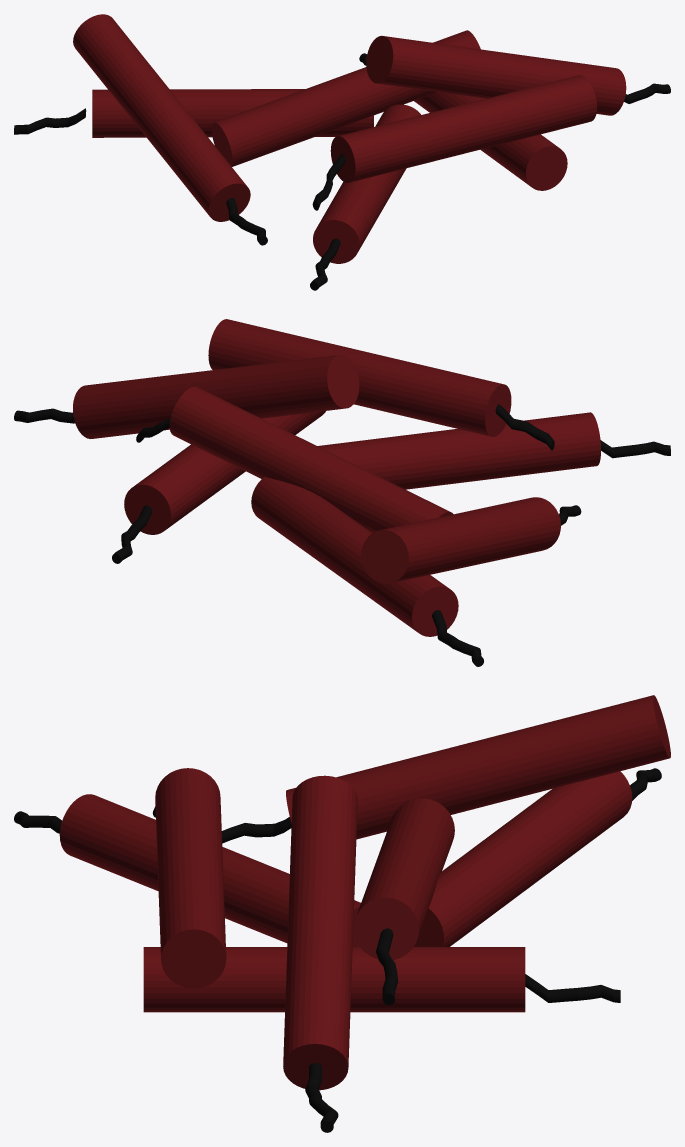
File: DynamitePileWIP.fbx
The picture shows the model from 3 angles, top to bottom: view 1: azimuth 30°, elevation 25°; view 2: azimuth 150°, elevation 25°; view 3: azimuth 270°, elevation 25°; orthographic projection. The views are drawn at different scales.
Parts seen in each view (by area): view 1: DynamitePile; view 2: DynamitePile; view 3: DynamitePile.
Part boxes in pixels (left/top/right/bottom): DynamitePile: left=14, top=14, right=670, bottom=290; DynamitePile: left=14, top=319, right=670, bottom=666; DynamitePile: left=14, top=695, right=670, bottom=1132.
Bounding box in the file's own units: 104 × 25.39 × 81.33.
